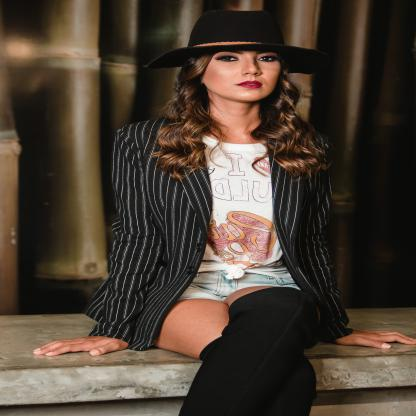Eye: (257, 55, 278, 63), (216, 55, 239, 62)
Mouth: (235, 80, 262, 89)
Nose: (240, 59, 261, 76)
